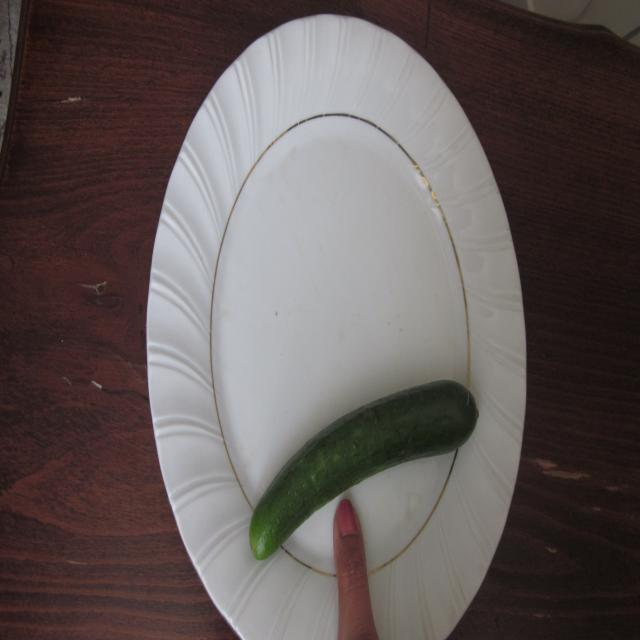cucumber: (235, 372, 510, 565)
